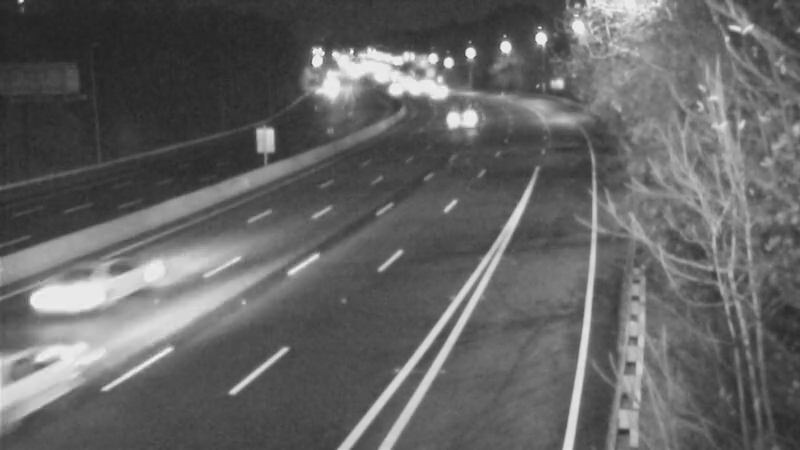vehicle: (1, 326, 98, 436), (34, 255, 114, 335), (410, 69, 460, 119), (424, 95, 474, 145)
